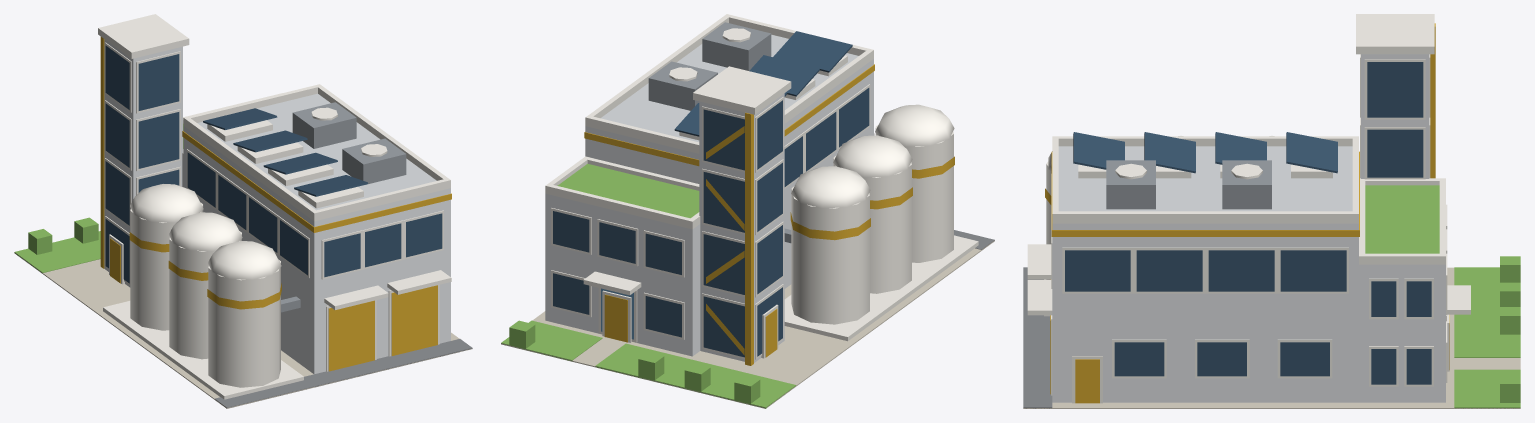
The picture shows the model from 3 angles, left to right: view 1: azimuth 30°, elevation 25°; view 2: azimuth 150°, elevation 25°; view 3: azimuth 270°, elevation 25°; orthographic projection. The views are drawn at different scales.
Parts seen in each view (by area): view 1: window_band (×14), tank (×3), cell_hall, tank_top (×3), garage_door (×2), parapet (×4), roof, yard, ac_unit_body (×2), solar_panel (×4), band_frame (×4), tank_pad (+11 smaller); view 2: tank (×3), window_band (×11), office_wing, tank_top (×3), parapet (×6), yard, window_glass (×5), cell_hall, lawn (×2), ac_unit_body (×2), green_roof, solar_panel (×3) (+12 smaller); view 3: cell_hall, window_band (×6), roof, parapet (×8), window_glass (×7), office_wing, lawn (×2), solar_panel (×4), green_roof, band_frame (×3), yard, ac_unit_body (×2) (+10 smaller).
Part boxes in pixels (box(x1,y1,x2,y2)): window_band (×14): box(105, 46, 442, 283); tank (×3): box(130, 202, 280, 387); cell_hall: box(183, 126, 450, 374); tank_top (×3): box(130, 184, 281, 279); garage_door (×2): box(328, 285, 437, 371); parapet (×4): box(183, 84, 450, 221); roof: box(197, 93, 436, 210); yard: box(14, 252, 471, 408); ac_unit_body (×2): box(292, 102, 406, 183); solar_panel (×4): box(203, 108, 368, 196); band_frame (×4): box(136, 51, 443, 279); tank_pad: box(103, 301, 303, 399); tank (×3): box(791, 125, 953, 324); window_band (×11): box(703, 88, 869, 357); office_wing: box(545, 193, 700, 356); tank_top (×3): box(791, 104, 954, 208); parapet (×6): box(545, 14, 873, 229); yard: box(501, 240, 994, 408); window_glass (×5): box(553, 211, 681, 337); cell_hall: box(585, 59, 873, 288); lawn (×2): box(501, 320, 796, 408); ac_unit_body (×2): box(648, 22, 771, 110); green_roof: box(557, 163, 699, 218); solar_panel (×3): box(674, 31, 852, 136); cell_hall: box(1052, 223, 1358, 402); window_band (×6): box(1065, 62, 1423, 291); roof: box(1058, 146, 1352, 211); parapet (×8): box(1052, 136, 1445, 264); window_glass (×7): box(1114, 281, 1431, 384); office_wing: box(1357, 264, 1445, 402); lawn (×2): box(1454, 267, 1520, 408); solar_panel (×4): box(1073, 132, 1337, 173); green_roof: box(1365, 185, 1439, 253); band_frame (×3): box(1062, 59, 1425, 293); yard: box(1023, 267, 1520, 408); ac_unit_body (×2): box(1106, 160, 1271, 209).
Size of the model in its own units: 16 by 15 by 24.
